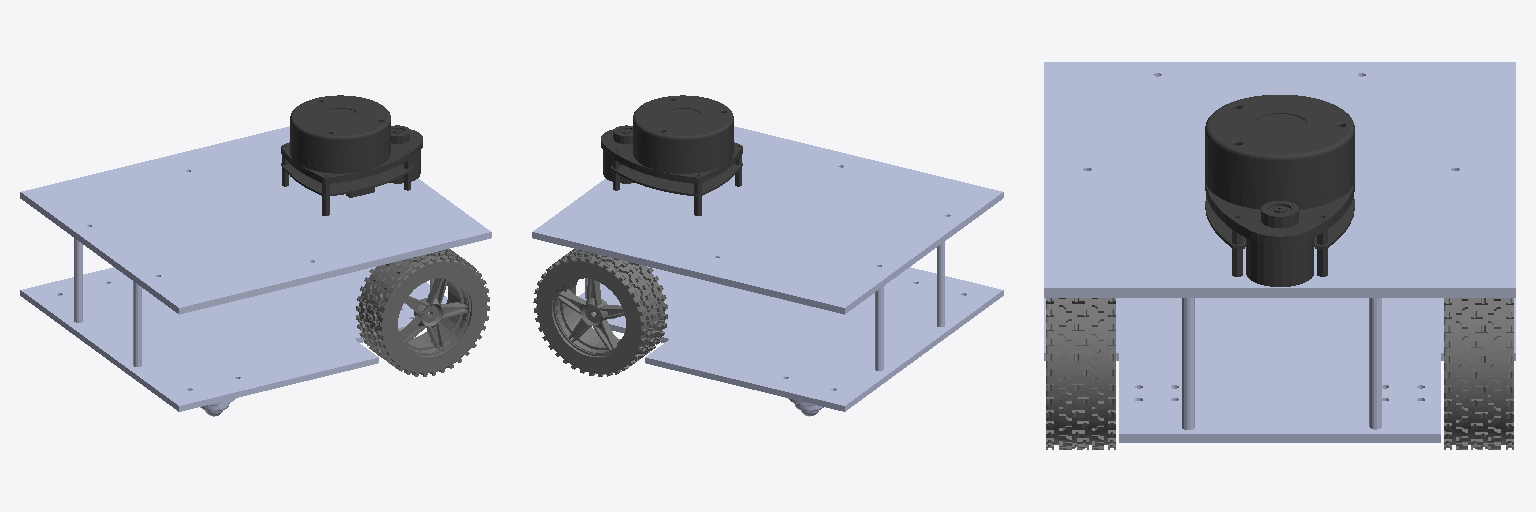
The robot description file, URDF, robot "description_pkg":
<?xml version="1.0" encoding="utf-8"?>
<!-- This URDF was automatically created by SolidWorks to URDF Exporter! Originally created by [author] ([email redacted]) 
     Commit Version: 1.6.0-4-g7f85cfe  Build Version: 1.6.7995.38578
     For more information, please see http://wiki.ros.org/sw_urdf_exporter -->
<robot
  name="description_pkg">

  <link
    name="base_link">
    <inertial>
      <origin
        xyz="0.0034114 2.3578E-05 0.037822"
        rpy="0 0 0" />
      <mass
        value="0.51342" />
      <inertia
        ixx="0.0018609"
        ixy="1.3812E-07"
        ixz="9.9607E-18"
        iyy="0.0024947"
        iyz="3.8719E-18"
        izz="0.0043499" />
    </inertial>
    <visual>
      <origin
        xyz="0 0 0"
        rpy="0 0 0" />
      <geometry>
        <mesh
          filename="package://description_pkg/meshes/base_link.STL" />
      </geometry>
      <material
        name="">
        <color
          rgba="0.79216 0.81961 0.93333 1" />
      </material>
    </visual>
    <collision>
      <origin
        xyz="0 0 0"
        rpy="0 0 0" />
      <geometry>
        <mesh
          filename="package://description_pkg/meshes/base_link.STL" />
      </geometry>
    </collision>
  </link>
  <link
    name="right_wheel">
    <inertial>
      <origin
        xyz="-3.9565E-09 0.016121 1.5411E-09"
        rpy="0 0 0" />
      <mass
        value="0.12113" />
      <inertia
        ixx="8.7E-05"
        ixy="1.2167E-11"
        ixz="-9.7666E-14"
        iyy="0.00015319"
        iyz="-4.7353E-12"
        izz="8.7E-05" />
    </inertial>
    <visual>
      <origin
        xyz="0 0 0"
        rpy="0 0 0" />
      <geometry>
        <mesh
          filename="package://description_pkg/meshes/right_wheel.STL" />
      </geometry>
      <material
        name="">
        <color
          rgba="0.50196 0.50196 0.50196 1" />
      </material>
    </visual>
    <collision>
      <origin
        xyz="0 0 0"
        rpy="0 0 0" />
      <geometry>
        <mesh
          filename="package://description_pkg/meshes/right_wheel.STL" />
      </geometry>
    </collision>
  </link>
  <joint
    name="joint_right_wheel"
    type="continuous">
    <origin
      xyz="0.0904581836051767 -0.1095 0.02"
      rpy="0 0 0" />
    <parent
      link="base_link" />
    <child
      link="right_wheel" />
    <axis
      xyz="0 1 0" />
  </joint>
  <link
    name="left_wheel">
    <inertial>
      <origin
        xyz="4.246E-09 -0.016121 6.0085E-13"
        rpy="0 0 0" />
      <mass
        value="0.12113" />
      <inertia
        ixx="8.7E-05"
        ixy="1.3056E-11"
        ixz="1.3227E-13"
        iyy="0.00015319"
        iyz="-1.7583E-15"
        izz="8.7E-05" />
    </inertial>
    <visual>
      <origin
        xyz="0 0 0"
        rpy="0 0 0" />
      <geometry>
        <mesh
          filename="package://description_pkg/meshes/left_wheel.STL" />
      </geometry>
      <material
        name="">
        <color
          rgba="0.50196 0.50196 0.50196 1" />
      </material>
    </visual>
    <collision>
      <origin
        xyz="0 0 0"
        rpy="0 0 0" />
      <geometry>
        <mesh
          filename="package://description_pkg/meshes/left_wheel.STL" />
      </geometry>
    </collision>
  </link>
  <joint
    name="joint_left_wheel"
    type="continuous">
    <origin
      xyz="0.0904581836051742 0.109499999999999 0.0200000000000001"
      rpy="0 0 0" />
    <parent
      link="base_link" />
    <child
      link="left_wheel" />
    <axis
      xyz="0 1 0" />
  </joint>
  <link
    name="laser">
    <inertial>
      <origin
        xyz="0.0067683 -0.00020768 -0.022438"
        rpy="0 0 0" />
      <mass
        value="0.3304" />
      <inertia
        ixx="0.00061474"
        ixy="-8.0027E-07"
        ixz="0.00015819"
        iyy="0.0009605"
        iyz="-3.096E-06"
        izz="0.0010981" />
    </inertial>
    <visual>
      <origin
        xyz="0 0 0"
        rpy="0 0 0" />
      <geometry>
        <mesh
          filename="package://description_pkg/meshes/lidar.STL" />
      </geometry>
      <material
        name="">
        <color
          rgba="0.29804 0.29804 0.29804 1" />
      </material>
    </visual>
    <collision>
      <origin
        xyz="0 0 0"
        rpy="0 0 0" />
      <geometry>
        <mesh
          filename="package://description_pkg/meshes/lidar.STL" />
      </geometry>
    </collision>
  </link>
  <joint
    name="joint_lidar"
    type="fixed">
    <origin
      xyz="0.0782512924534475 0.000163224895598668 0.1327"
      rpy="0 0 0" />
    <parent
      link="base_link" />
    <child
      link="laser" />
    <axis
      xyz="0 0 0" />
  </joint>
  
  <!-- <gazebo>
   <plugin name="differential_drive_controller" filename="libgazebo_ros_diff_drive.so">
       <updateRate>30.0</updateRate>
      <commandTopic>cmd_vel</commandTopic>
      <odometryTopic>odom</odometryTopic>
      <odometryFrame>odom</odometryFrame>
      <odometrySource>world</odometrySource>
      <publishOdomTF>true</publishOdomTF>
      <robotBaseFrame>base_link</robotBaseFrame>
      <publishWheelTF>false</publishWheelTF>
      <publishTf>true</publishTf>
      <publishWheelJointState>true</publishWheelJointState>
      <legacyMode>false</legacyMode>
      <updateRate>30</updateRate>
      <leftJoint>joint_left_wheel</leftJoint>
      <rightJoint>joint_right_wheel</rightJoint>
      <wheelSeparation>0.15</wheelSeparation>
      <wheelDiameter>0.085</wheelDiameter>
      <wheelAcceleration>10</wheelAcceleration>
      <wheelTorque>20</wheelTorque>
      <rosDebugLevel>na</rosDebugLevel>
    </plugin>
  </gazebo>
  
     <!- - LIDER - ->
    <gazebo reference="lidar">
        <sensor type="ray" name="head_hokuyo_sensor">
            <pose>0 0 0 0 0 0</pose>
            <visualize>false</visualize>
            <update_rate>40</update_rate>
            <ray>
                <scan>
                    <horizontal>
                        <samples>720</samples>
                        <resolution>1</resolution>
                        <min_angle>-1.570796</min_angle>
                        <max_angle>1.570796</max_angle>
                    </horizontal>
                </scan>
                <range>
                    <min>0.10</min>
                    <max>30.0</max>
                    <resolution>0.01</resolution>
                </range>
                <noise>
                    <type>gaussian</type>
                    <!- - Noise parameters based on published spec for Hokuyo laser
                        achieving "+-30mm" accuracy at range < 10m.  A mean of 0.0m and
                        stddev of 0.01m will put 99.7% of samples within 0.03m of the true
                        reading. - ->
                    <mean>0.0</mean>
                    <stddev>0.01</stddev>
                </noise>
            </ray>
            <plugin name="gazebo_ros_head_hokuyo_controller" filename="libgazebo_ros_laser.so">
                <topicName>/scan</topicName>
                <frameName>lidar</frameName>
            </plugin>
        </sensor>
    </gazebo> -->
  
  
</robot>

--- Facts derived from the render (not from the file) ---
3 views of the same robot in one strip: view 1: azimuth 30°, elevation 25°; view 2: azimuth 150°, elevation 25°; view 3: azimuth 270°, elevation 25° (orthographic).
Robot: description_pkg — 4 links, 3 joints (2 continuous, 1 fixed); root link base_link; default pose: all joints at 0.
Visible links, largest first — view 1: base_link, right_wheel, laser; view 2: base_link, left_wheel, laser; view 3: base_link, laser, right_wheel, left_wheel.
Boxes of the visible links, <box> form: base_link: <box>20,126,491,416</box>; right_wheel: <box>356,249,489,376</box>; laser: <box>281,95,422,215</box>; base_link: <box>532,126,1003,416</box>; left_wheel: <box>533,249,667,376</box>; laser: <box>601,95,742,215</box>; base_link: <box>1044,62,1515,442</box>; laser: <box>1205,95,1354,286</box>; right_wheel: <box>1046,298,1115,449</box>; left_wheel: <box>1444,298,1513,449</box>.
Size in the robot's own frame: 0.2563 by 0.22 by 0.1572 metres.
4 mesh visuals loaded from 4 distinct referenced files (4 binary STL).